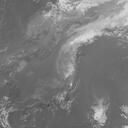cyclone: (54, 68, 78, 113)
